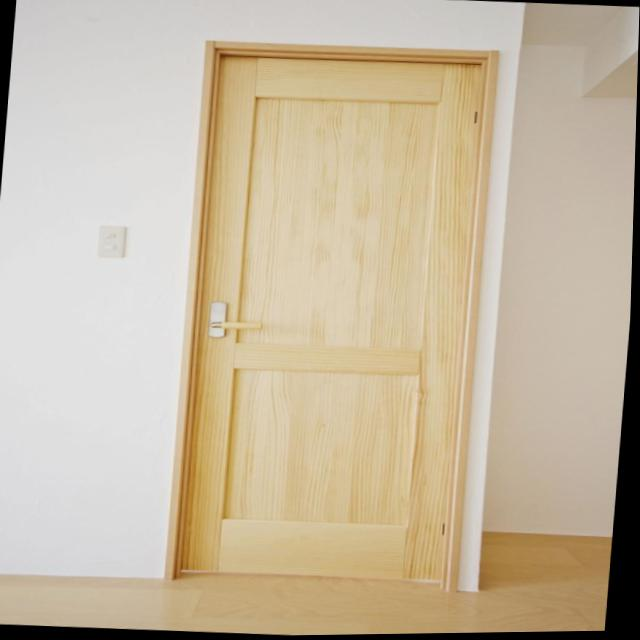close: (152, 28, 512, 608)
